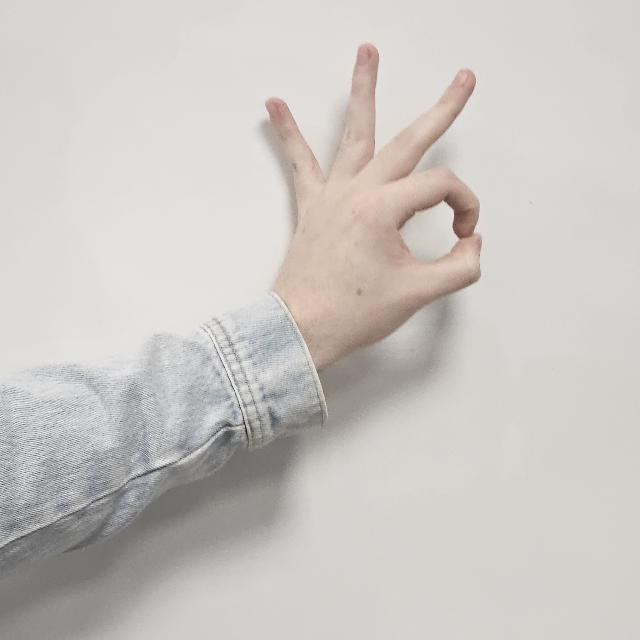Bolinha: (264, 37, 498, 377)
